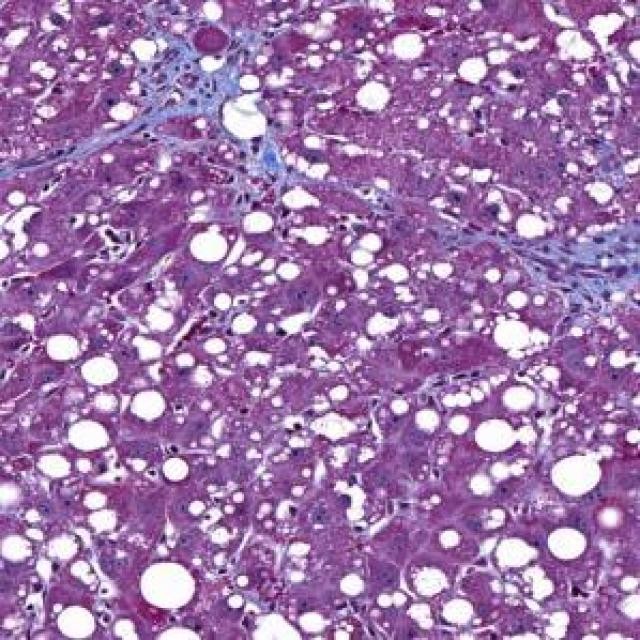fibrosis: (154, 49, 285, 165), (520, 227, 640, 306)
